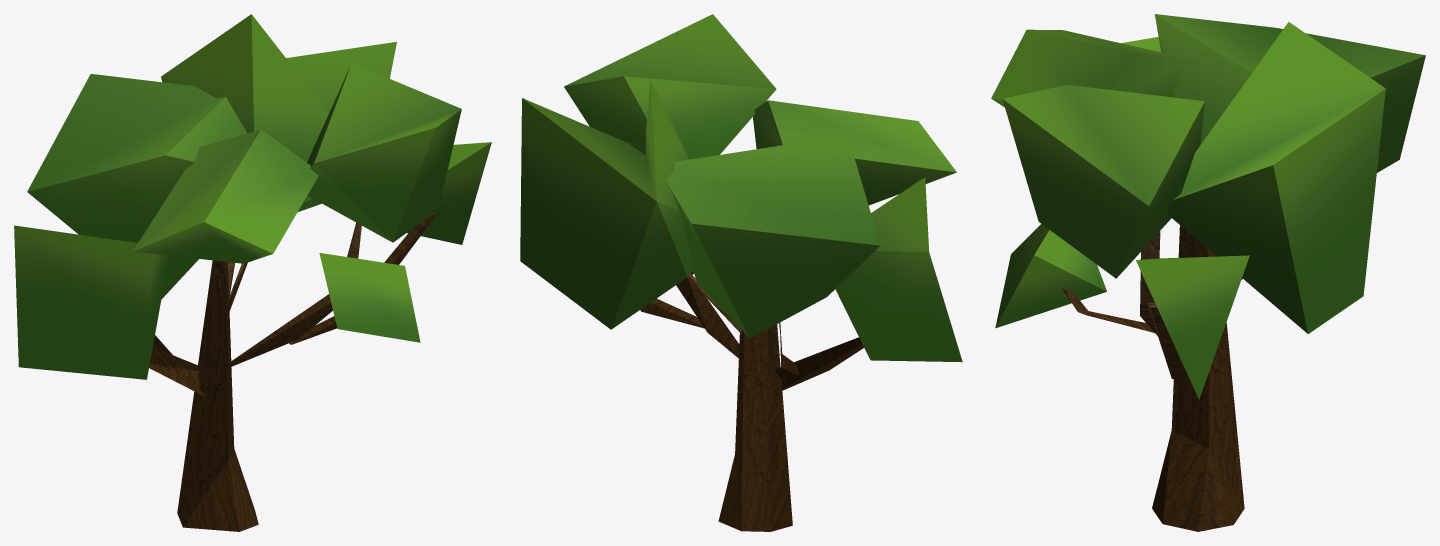
The model's file is Tree_L.fbx.
3 views of the same model, side by side, from view 1: azimuth 30°, elevation 25°; view 2: azimuth 150°, elevation 25°; view 3: azimuth 270°, elevation 25° (orthographic). The views are drawn at different scales.
Visible parts, largest first — view 1: Tree.002; view 2: Tree.002; view 3: Tree.002.
Part boxes in pixels (bbox=[...]): Tree.002: bbox=[14, 14, 491, 531]; Tree.002: bbox=[520, 14, 962, 531]; Tree.002: bbox=[991, 14, 1425, 531].
Size of the model in its own units: 742 by 724 by 538.
2 materials, 2 textured.
